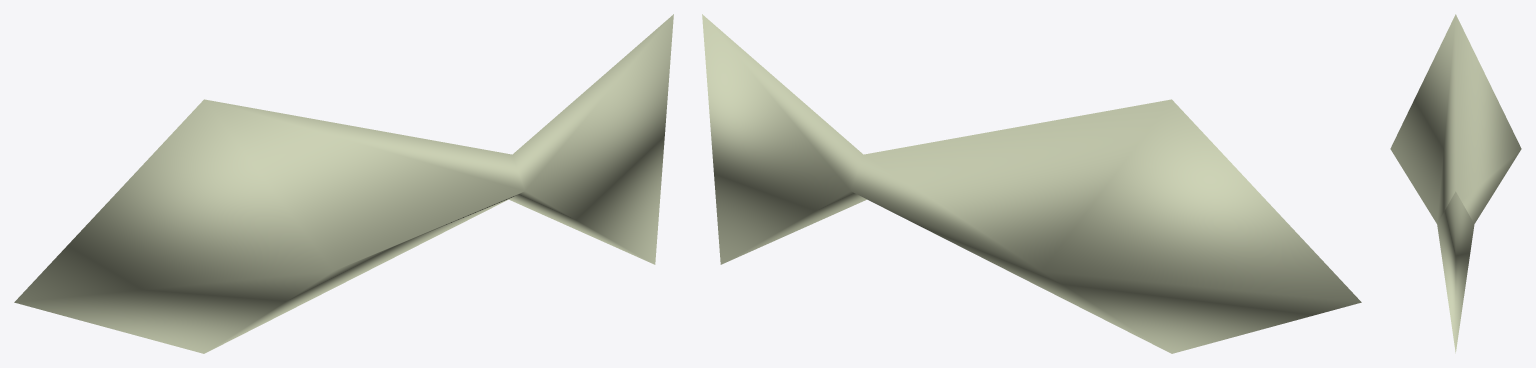
File: Fish.dae
The picture shows the model from 3 angles, left to right: view 1: azimuth 30°, elevation 25°; view 2: azimuth 150°, elevation 25°; view 3: azimuth 270°, elevation 25°; orthographic projection. The views are drawn at different scales.
Parts seen in each view (by area): view 1: Fish-0; view 2: Fish-0; view 3: Fish-0.
Part boxes in pixels (<box>): Fish-0: <box>14,14,673,353</box>; Fish-0: <box>702,14,1361,353</box>; Fish-0: <box>1390,14,1521,353</box>.
Bounding box in the file's own units: 4.85 × 1.94 × 1.22.
